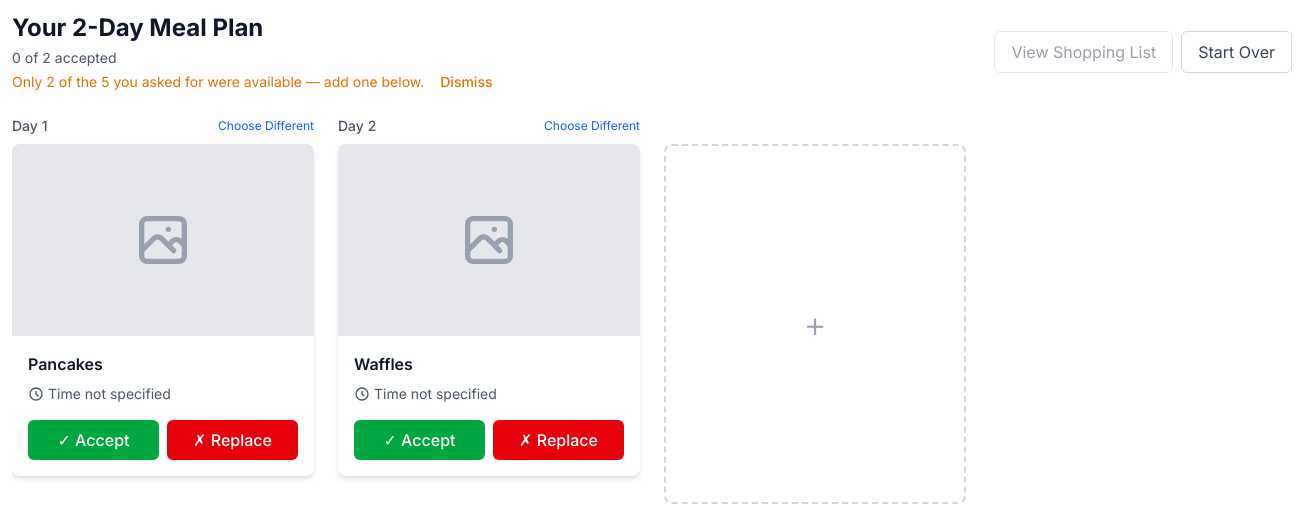
Test: MealPlanView shortfall banner › shows a dismissible banner naming the shortfall when fewer recipes were claimed than requested
Expected: the text "Only 2 of the 5 you asked for were available" is shown, [12,72,424,92]
Click the button "Dismiss" at (466, 82), box [440,72,492,92]
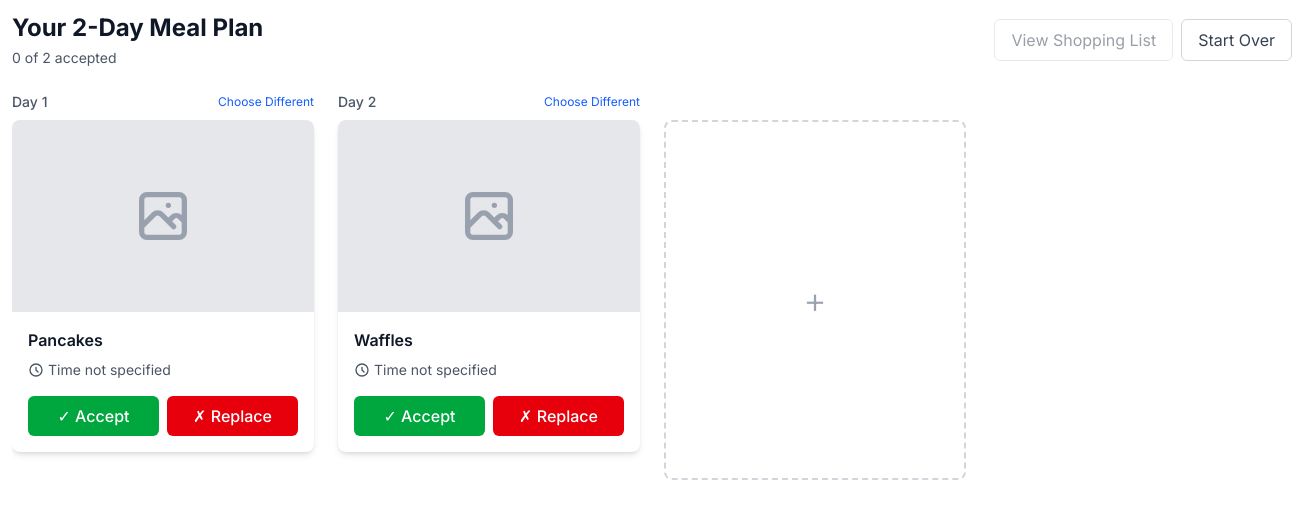
Expected: the text "Only 2 of the 5 you asked for were available" is gone
